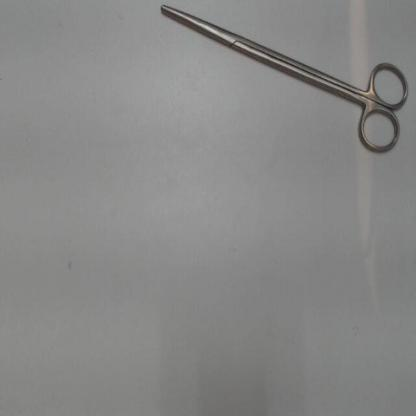9 Metzenbaum Scissors: (158, 3, 413, 160)
